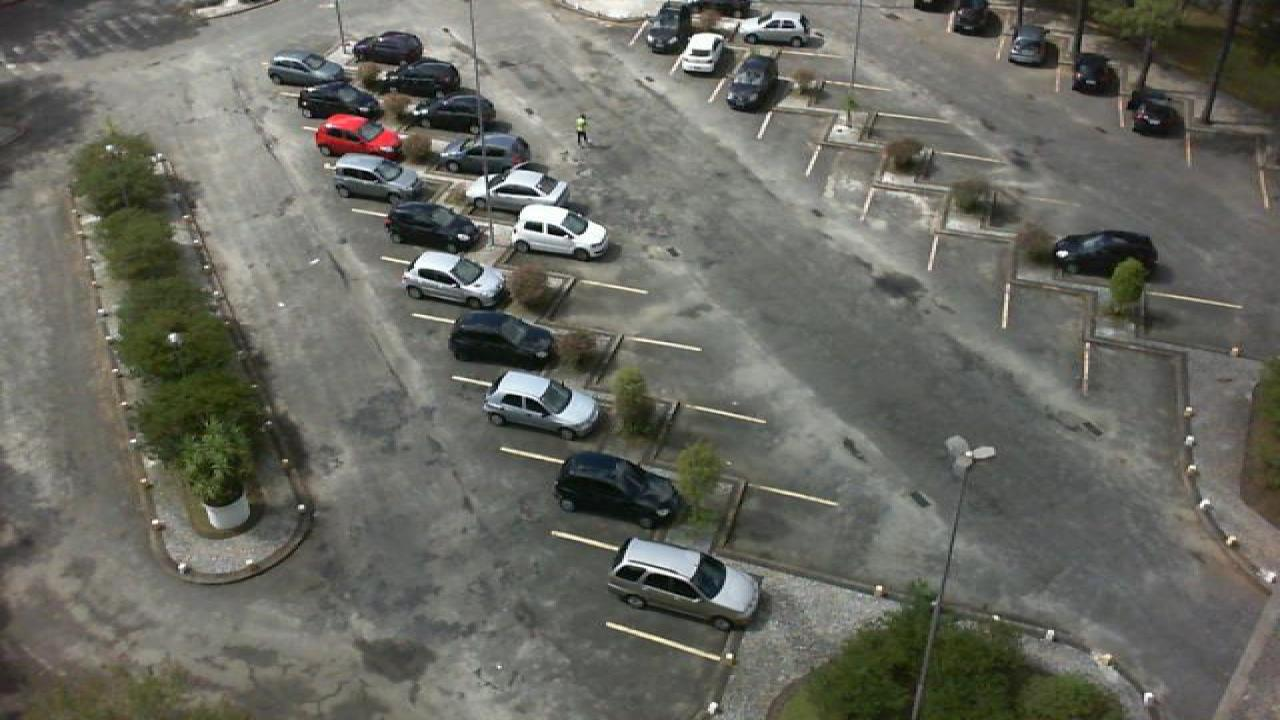Car: (604, 536, 764, 631), (552, 450, 684, 526), (484, 371, 602, 442), (400, 250, 508, 309), (448, 309, 556, 367), (468, 161, 578, 217), (512, 204, 618, 261), (386, 199, 488, 253), (1054, 229, 1162, 276), (332, 158, 428, 204), (434, 132, 532, 176), (314, 114, 402, 160), (404, 93, 498, 136), (374, 60, 462, 98), (266, 50, 354, 88), (294, 81, 380, 119), (726, 54, 782, 112), (1126, 87, 1186, 137), (738, 10, 820, 45), (640, 0, 690, 55), (352, 31, 426, 66), (1070, 50, 1120, 94), (676, 31, 724, 76), (948, 0, 1000, 36), (1006, 26, 1048, 66)
